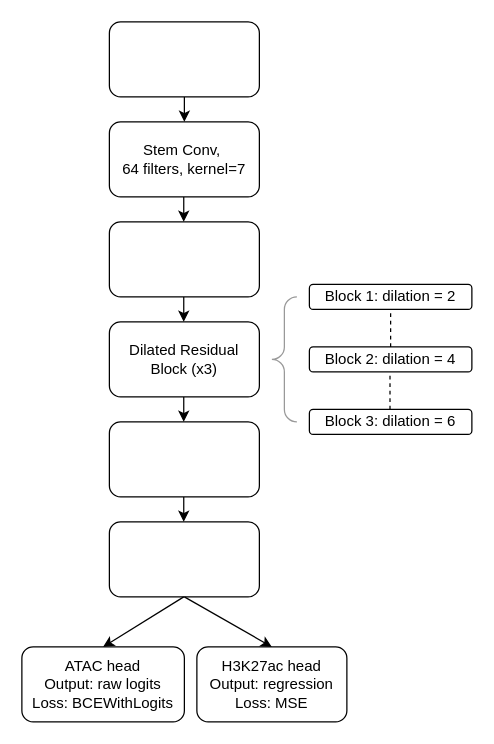
This 494x744 diagram has some shape labels left out. Here are the shapes that lost their labels. From the top down, the centre of each, then its label:
the point at 183,59: DNA sequence (4x200)
the point at 183,259: Inception Residual Block (x3)
the point at 183,459: Global Avg Pool
the point at 183,559: Shared Embedding (128)
